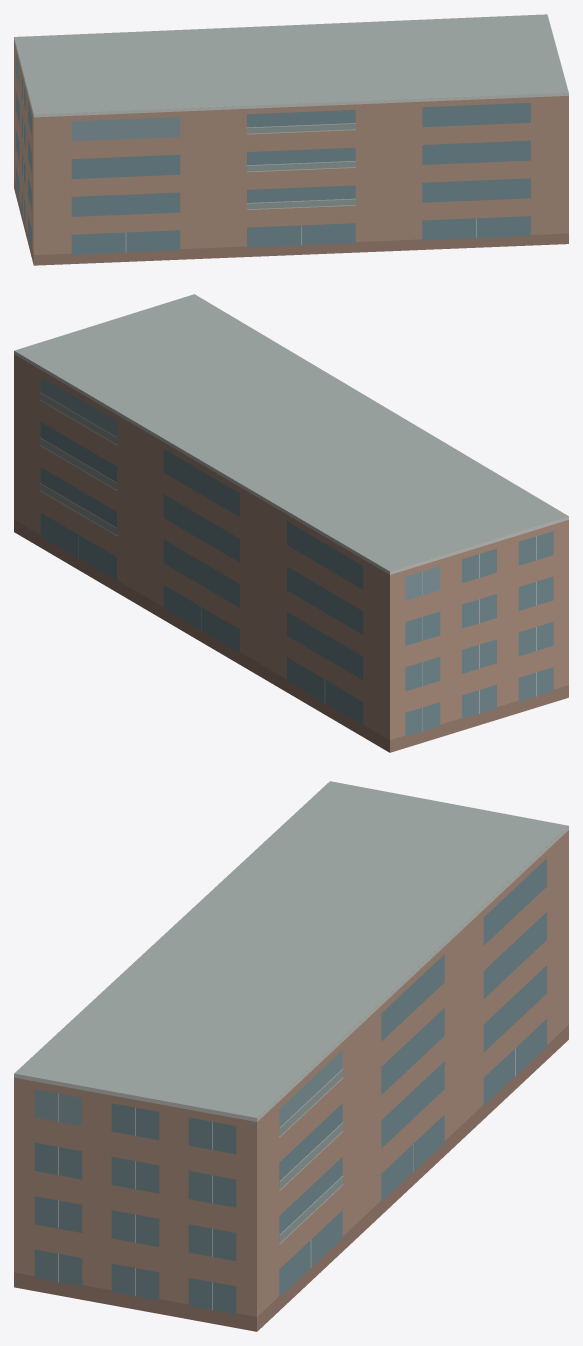
Rendered from survey-upis-32884358.glb.
3 renders of one model, top to bottom at view 1: azimuth 30°, elevation 25°; view 2: azimuth 150°, elevation 25°; view 3: azimuth 270°, elevation 25°, orthographic. The views are drawn at different scales.
Visible parts, largest first — view 1: survey-upis-32884358.tmp; view 2: survey-upis-32884358.tmp; view 3: survey-upis-32884358.tmp.
Part boxes in pixels (x1,y1,x2,y2): survey-upis-32884358.tmp: (14,14,568,265); survey-upis-32884358.tmp: (14,294,568,752); survey-upis-32884358.tmp: (14,781,568,1331).
Bounding box in the file's own units: 42.93 × 12.7 × 29.88.
